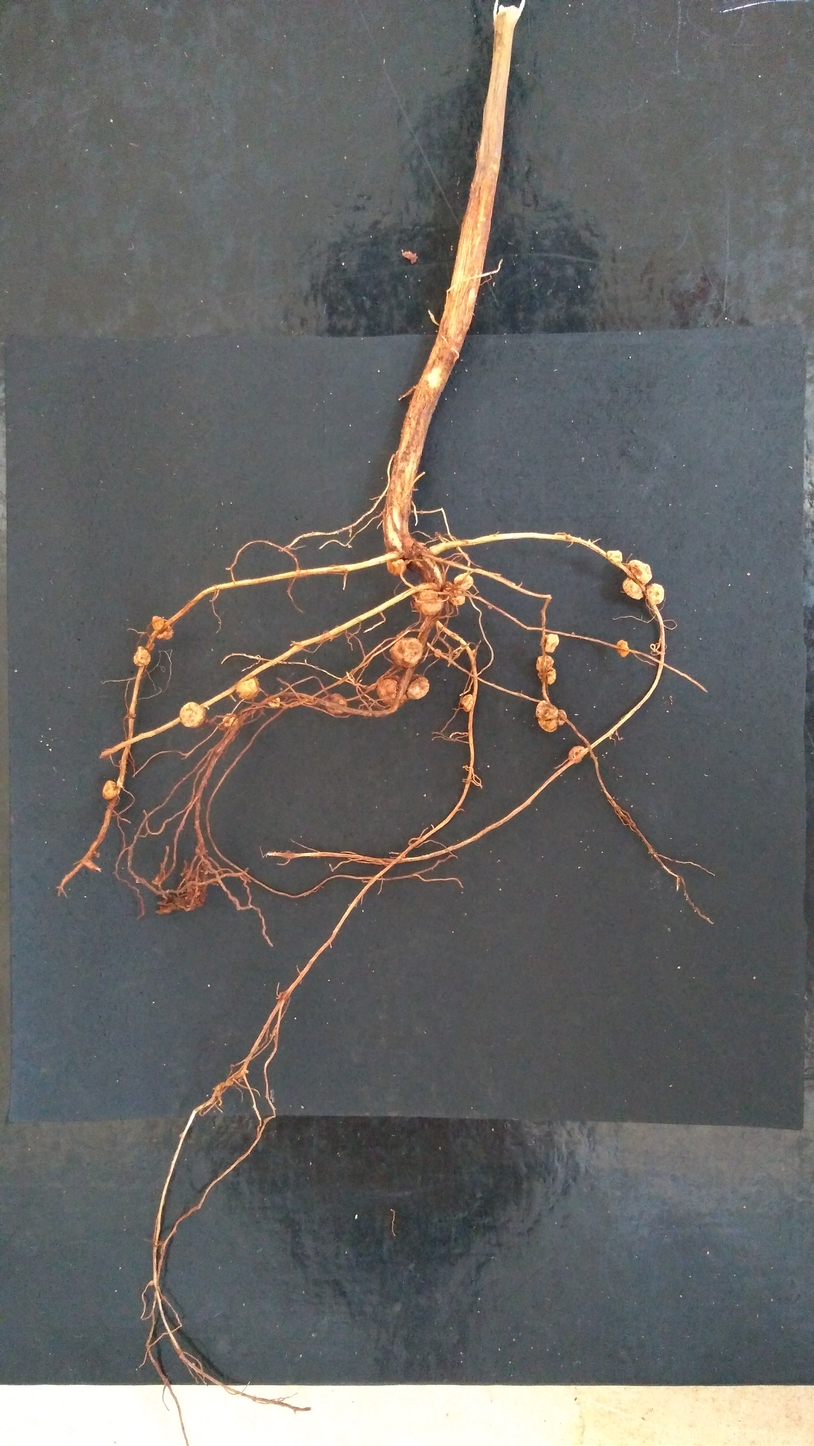nodule: (622, 559, 652, 599), (182, 865, 207, 908), (390, 637, 423, 667), (412, 589, 444, 614), (179, 702, 205, 728), (536, 700, 557, 732), (536, 655, 556, 685), (376, 678, 397, 706), (442, 581, 465, 606), (406, 676, 429, 700), (152, 615, 173, 641), (237, 676, 259, 700), (325, 693, 348, 714), (386, 558, 407, 576), (647, 583, 664, 605), (454, 572, 473, 590), (542, 633, 559, 653), (134, 647, 151, 666), (568, 746, 585, 763), (102, 781, 118, 799), (616, 639, 630, 657), (459, 694, 473, 711), (606, 550, 622, 563), (223, 713, 239, 725), (557, 709, 567, 726), (268, 697, 280, 708), (434, 648, 441, 657), (488, 604, 493, 610)
